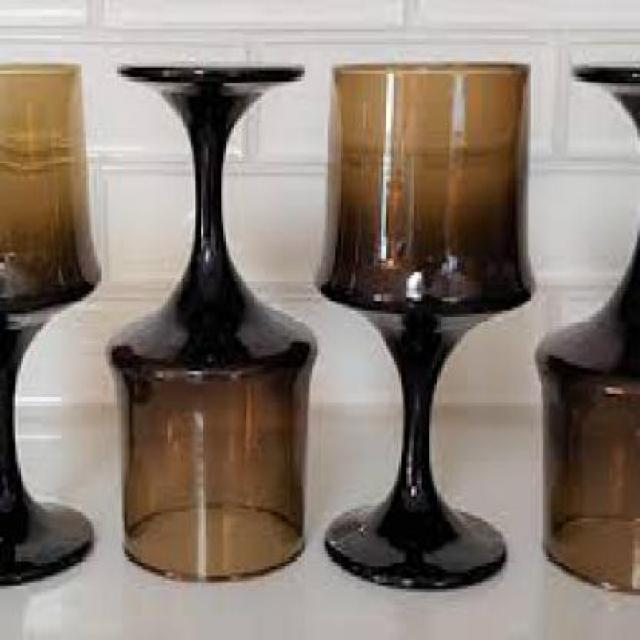kaca: (312, 62, 534, 586), (105, 61, 317, 577), (530, 62, 638, 589), (0, 60, 94, 592)
